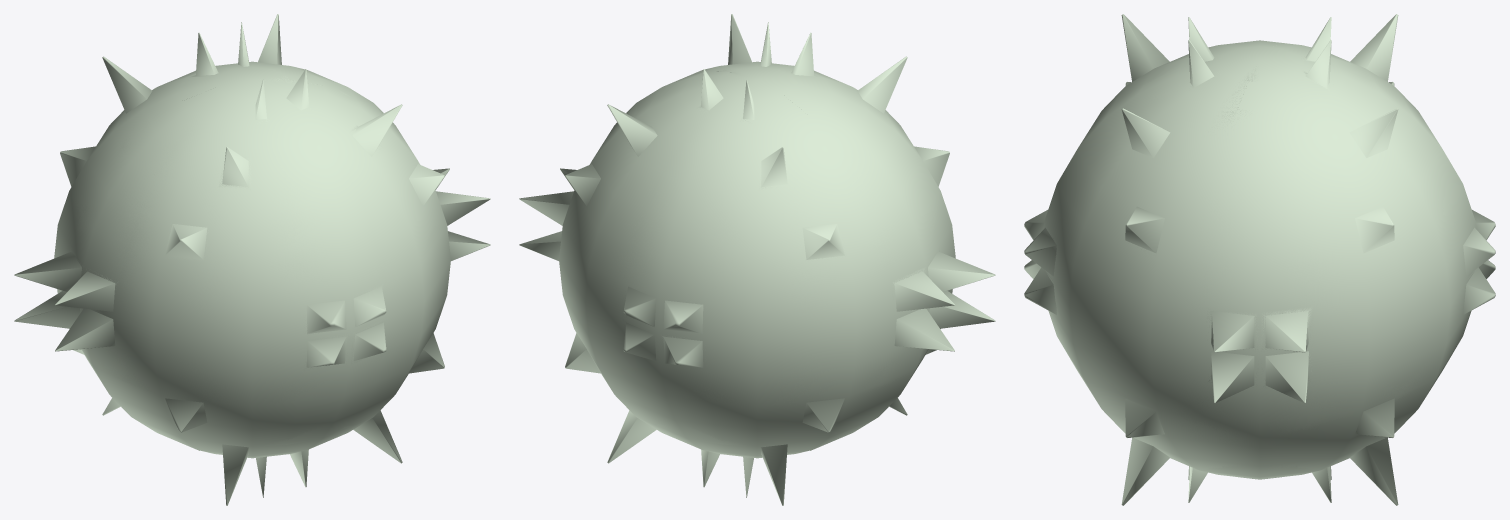
Rendered from Spike Ball.glb.
3 views of the same model, side by side, from view 1: azimuth 30°, elevation 25°; view 2: azimuth 150°, elevation 25°; view 3: azimuth 270°, elevation 25° (orthographic). The views are drawn at different scales.
Parts seen in each view (by area): view 1: Sphere; view 2: Sphere; view 3: Sphere.
Part boxes in pixels (x1=…): Sphere: x1=14, y1=14, x2=490, y2=505; Sphere: x1=519, y1=14, x2=995, y2=505; Sphere: x1=1024, y1=14, x2=1495, y2=505.
Size of the model in its own units: 2.53 by 2.33 by 2.15.
